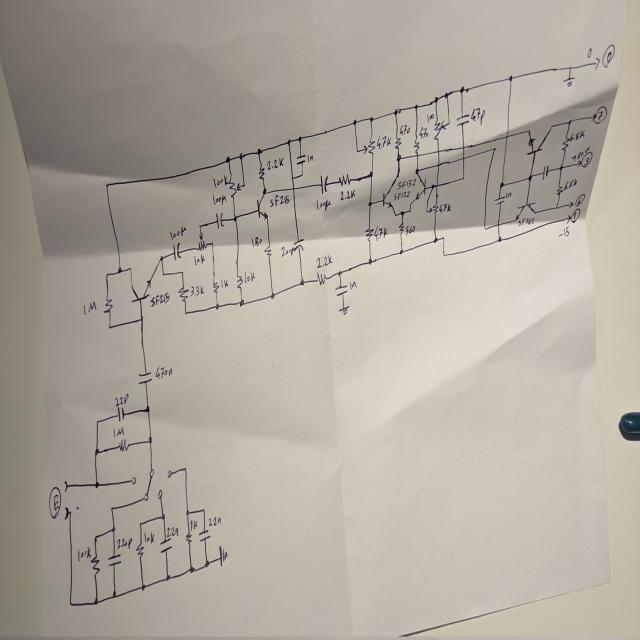capacitor: (138, 369, 152, 386), (107, 552, 122, 567), (172, 240, 181, 262), (214, 210, 225, 228), (159, 538, 171, 554), (320, 173, 328, 196), (334, 284, 348, 297), (456, 113, 470, 126), (197, 529, 211, 541), (116, 404, 125, 422), (494, 193, 505, 206), (294, 238, 304, 252), (542, 163, 549, 182), (296, 154, 306, 164)
crossover: (436, 160, 441, 168), (291, 185, 297, 191), (496, 222, 502, 228), (462, 152, 466, 160), (505, 133, 509, 140), (416, 152, 420, 158), (462, 144, 466, 148), (437, 148, 440, 153), (436, 182, 438, 188)
ground: (218, 543, 228, 568), (562, 73, 575, 88), (338, 304, 350, 316)
junction: (110, 588, 117, 600), (92, 595, 99, 605), (104, 180, 110, 190), (116, 265, 122, 275), (225, 154, 231, 164), (147, 435, 153, 444), (104, 270, 110, 279), (160, 511, 166, 520), (554, 203, 560, 212), (396, 153, 402, 162), (94, 479, 99, 489), (337, 267, 342, 277), (140, 581, 145, 591), (145, 404, 150, 414), (256, 148, 262, 156), (398, 247, 404, 255), (232, 214, 238, 222), (184, 508, 190, 516), (399, 208, 405, 216), (558, 164, 564, 172), (497, 234, 502, 243), (508, 73, 513, 82), (94, 447, 99, 456), (459, 85, 464, 94), (107, 322, 112, 331), (159, 253, 164, 262), (433, 95, 438, 104), (189, 564, 194, 573), (204, 558, 209, 567), (296, 135, 302, 142), (482, 224, 488, 231), (138, 314, 144, 321), (299, 278, 304, 286), (238, 152, 243, 160), (109, 504, 114, 512), (68, 599, 73, 607), (165, 573, 170, 581), (286, 137, 291, 145), (290, 174, 295, 182), (239, 298, 244, 306), (262, 187, 267, 195), (499, 180, 504, 188), (270, 290, 274, 299), (394, 107, 398, 116), (352, 118, 357, 125), (433, 235, 437, 243), (368, 257, 372, 265), (368, 170, 372, 178), (138, 520, 142, 528), (111, 524, 115, 532), (93, 534, 97, 542), (202, 506, 206, 514), (368, 199, 372, 207), (528, 173, 532, 181), (444, 91, 448, 99), (181, 268, 185, 276), (430, 182, 434, 190), (447, 119, 451, 127), (129, 264, 133, 272), (567, 118, 572, 124), (492, 145, 497, 151), (369, 115, 373, 122), (215, 302, 219, 309), (183, 309, 187, 316), (414, 103, 418, 110), (198, 223, 202, 230), (242, 181, 246, 188), (415, 168, 419, 175), (210, 239, 214, 246), (442, 252, 446, 258), (95, 418, 99, 424), (183, 466, 187, 472), (461, 174, 465, 180), (355, 148, 359, 154), (441, 234, 445, 240), (568, 64, 572, 70), (408, 208, 411, 214), (161, 272, 165, 276), (409, 201, 412, 206), (426, 206, 428, 212), (426, 198, 428, 203)
resistor: (432, 116, 446, 142), (229, 172, 241, 198), (364, 136, 376, 156), (177, 284, 189, 302), (315, 270, 328, 286), (196, 232, 206, 252), (90, 556, 100, 576), (561, 133, 570, 154), (338, 173, 351, 187), (103, 296, 113, 314), (136, 543, 146, 560), (117, 439, 131, 451), (364, 226, 374, 242), (264, 242, 272, 261), (235, 271, 243, 289), (212, 278, 219, 297), (428, 201, 438, 214), (556, 182, 564, 198), (258, 162, 265, 179), (413, 136, 420, 153), (185, 530, 192, 546), (394, 136, 402, 150), (398, 220, 404, 237)
switch: (130, 465, 172, 503)
terminal: (594, 55, 602, 69), (590, 111, 596, 122), (63, 479, 68, 492), (64, 506, 69, 519), (576, 159, 582, 168), (568, 201, 574, 208), (566, 214, 570, 223)
text: (48, 485, 62, 520), (600, 42, 616, 68), (149, 292, 170, 307), (268, 193, 290, 207), (471, 105, 485, 126), (169, 224, 187, 240), (154, 364, 173, 379), (373, 224, 388, 242), (82, 299, 97, 316), (212, 174, 229, 189), (266, 156, 284, 170), (392, 189, 411, 202), (316, 253, 332, 268), (78, 545, 92, 562), (397, 176, 416, 188), (316, 196, 330, 212), (572, 146, 588, 160), (116, 536, 133, 549), (594, 106, 606, 124), (376, 134, 391, 148), (115, 392, 129, 407), (571, 128, 585, 142), (517, 216, 534, 227), (212, 192, 226, 205), (280, 245, 294, 258), (564, 177, 578, 190), (340, 188, 355, 200), (208, 515, 222, 527), (190, 284, 204, 296), (111, 427, 126, 438), (582, 151, 592, 167), (243, 270, 255, 283), (439, 201, 451, 214), (398, 123, 410, 136), (166, 525, 178, 538), (250, 235, 262, 247), (193, 253, 204, 266), (419, 125, 429, 139), (144, 530, 154, 543), (405, 223, 415, 236), (218, 277, 228, 290), (574, 192, 584, 205), (559, 226, 569, 238), (306, 152, 315, 164), (349, 279, 357, 290), (189, 519, 197, 529), (427, 111, 434, 122), (505, 189, 512, 200), (586, 46, 592, 58), (571, 211, 577, 220)
transistor: (524, 125, 552, 156), (130, 271, 153, 301), (381, 180, 396, 211), (255, 192, 269, 221), (516, 201, 536, 218), (415, 170, 426, 200)
